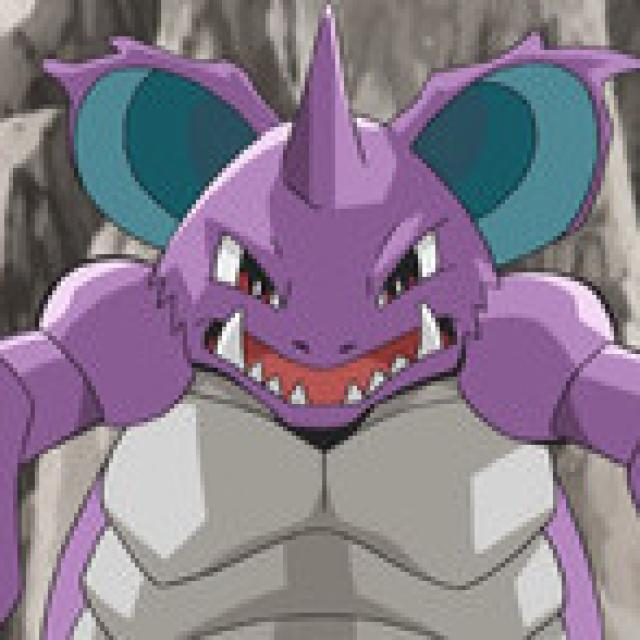Nidoking: (59, 49, 618, 640)
